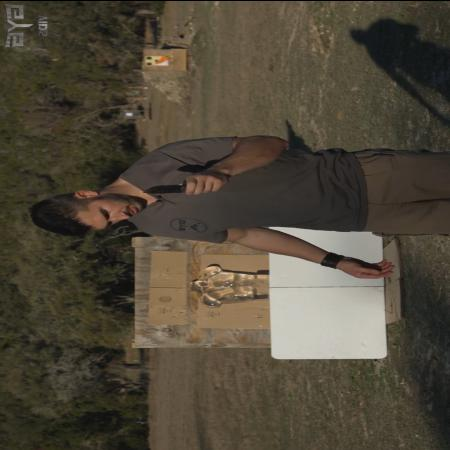long weapon: (134, 173, 217, 195)
